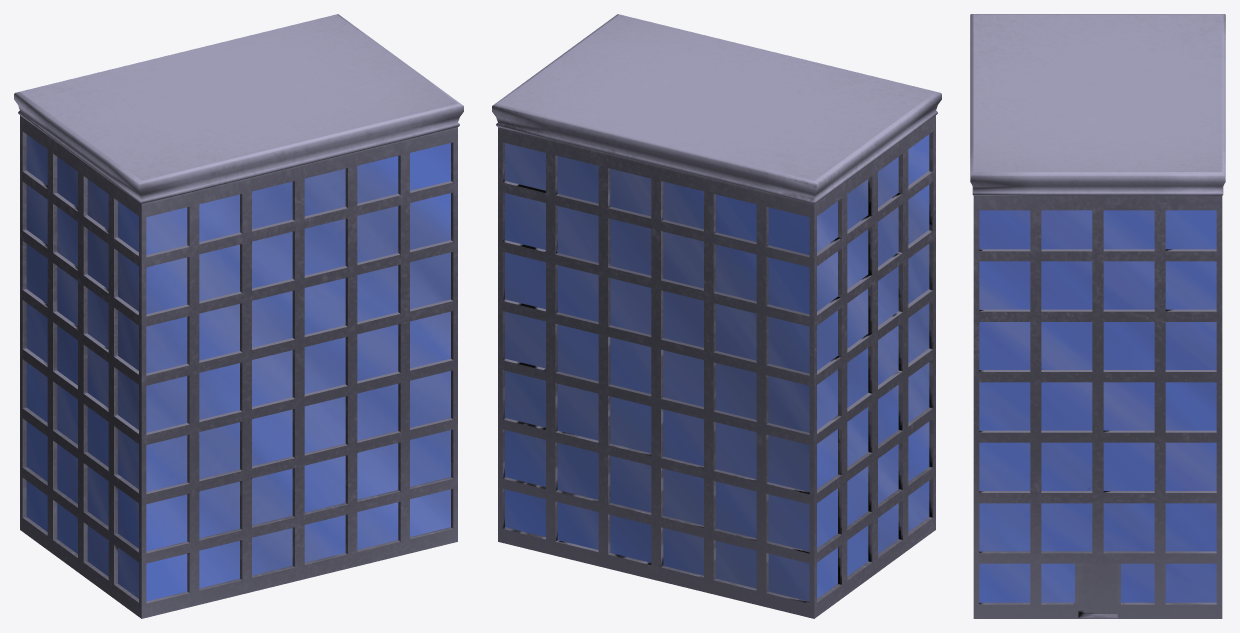
The model's file is Building04.fbx.
3 renders of one model, left to right at view 1: azimuth 30°, elevation 25°; view 2: azimuth 150°, elevation 25°; view 3: azimuth 270°, elevation 25°, orthographic. The views are drawn at different scales.
Visible parts, largest first — view 1: Building04; view 2: Building04; view 3: Building04.
Part boxes in pixels (x1=…): Building04: x1=14, y1=14, x2=463, y2=618; Building04: x1=492, y1=14, x2=941, y2=618; Building04: x1=970, y1=14, x2=1225, y2=618.
Bounding box in the file's own units: 1541 × 1985 × 1027.
